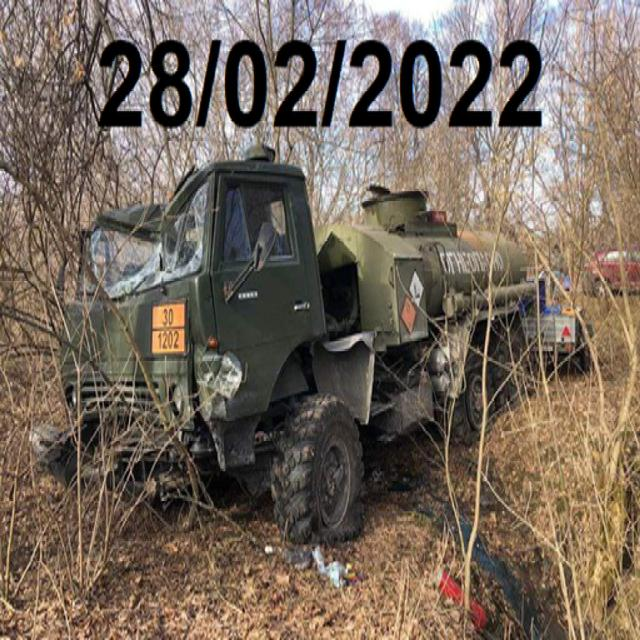CAR: (581, 240, 639, 300)
TRUCK: (48, 129, 528, 560)
